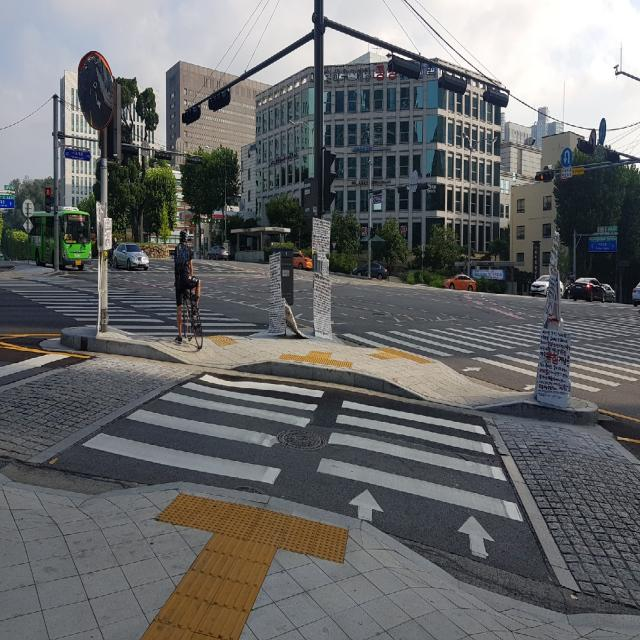빨간불: (46, 188, 50, 212)
횡단보도: (80, 372, 524, 560), (357, 329, 533, 360), (576, 321, 640, 375), (116, 284, 168, 322), (43, 279, 89, 320)
